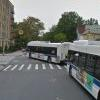Bus: (22, 37, 100, 92)
